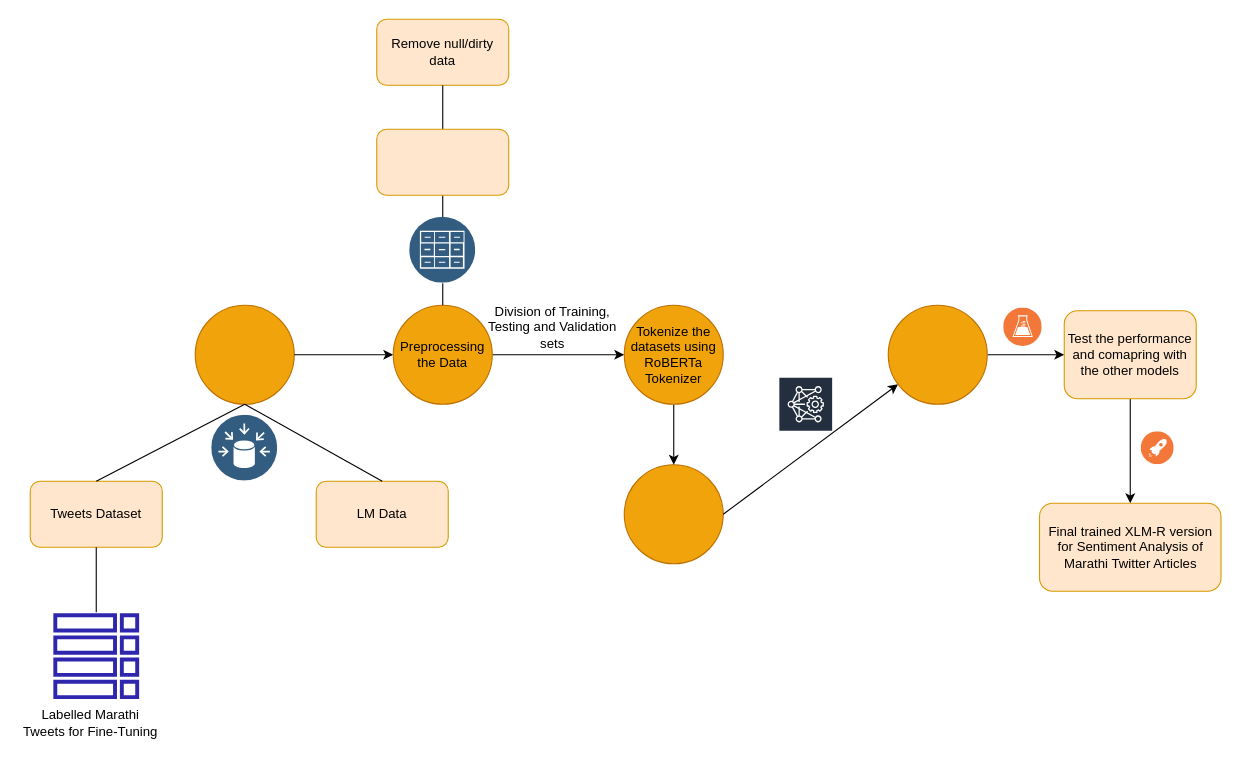
This 1240x758 diagram has some shape labels left out. The centre of each missing label's shape, as x and y in pixels:
"Dataset" goes at point 244,354.
"Keep the required data for the training" goes at point 442,161.
"Setting up multilingual models for training" goes at point 673,514.
"Training on a random seed for all models" goes at point 937,354.
